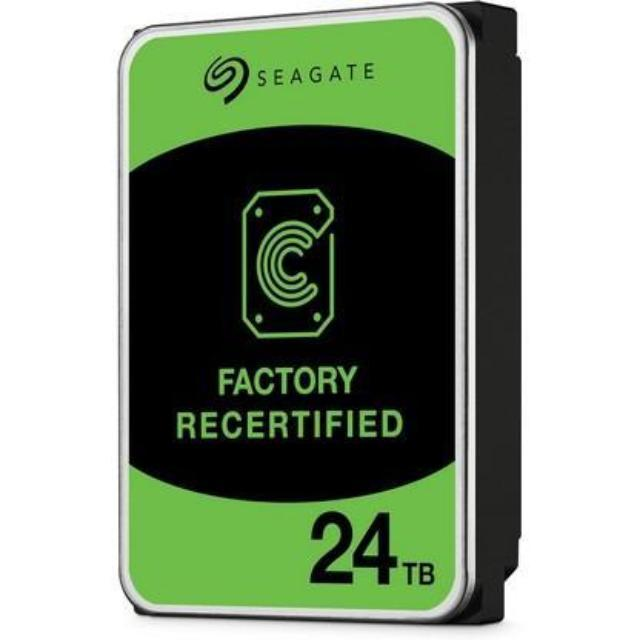DISK: (96, 0, 528, 640)
